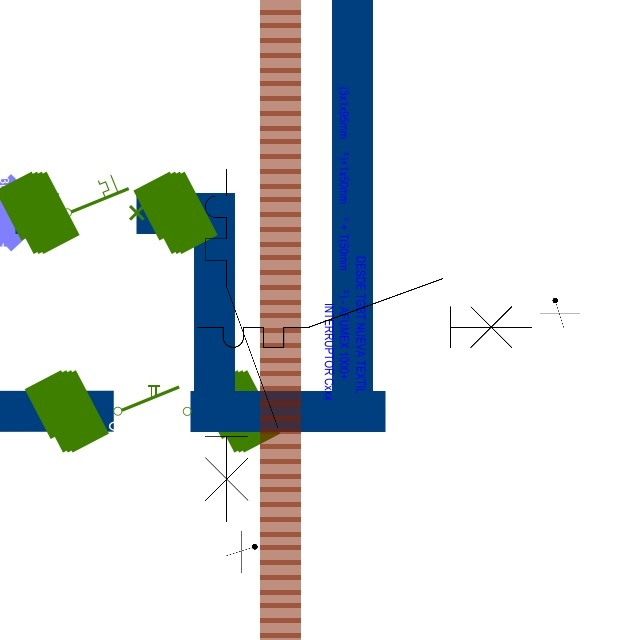interruptor_termomagnetico: (196, 160, 287, 531), (189, 270, 540, 356)
